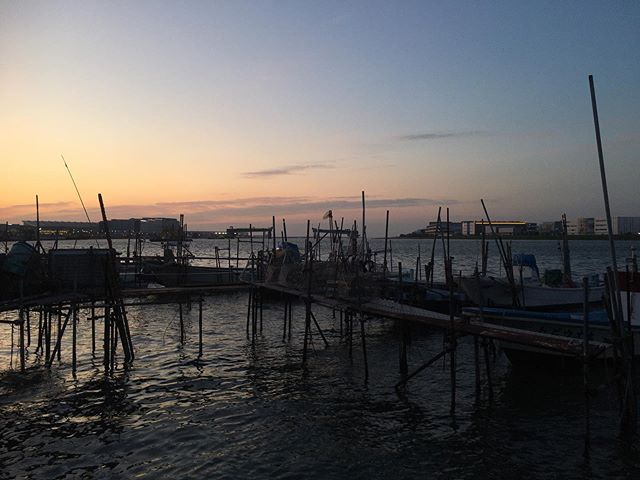bridge: (14, 244, 640, 416)
sky: (5, 1, 640, 208)
